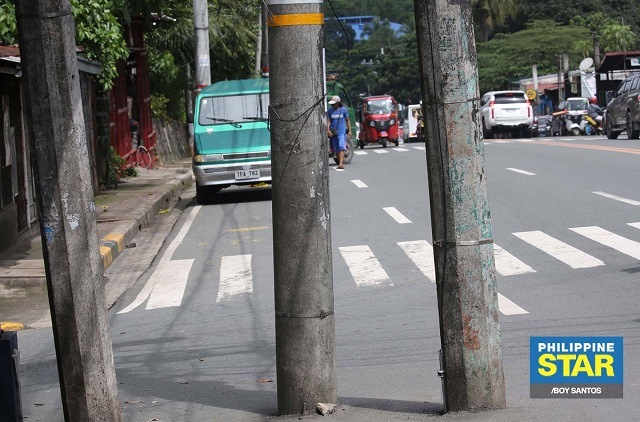car: (199, 82, 270, 195), (602, 75, 640, 142), (479, 90, 533, 137)
pedestrian lane: (141, 222, 640, 309)
person: (328, 94, 350, 171)
pole: (17, 2, 122, 422), (414, 1, 508, 409), (267, 1, 337, 411), (192, 2, 212, 83)
